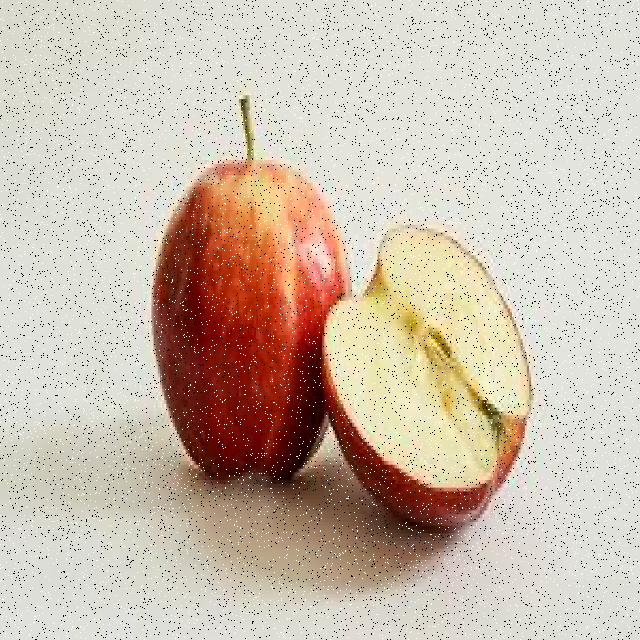Apple: (150, 155, 349, 477), (324, 226, 529, 518)
